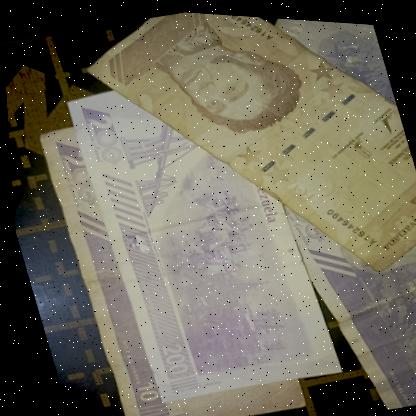five-front-vef: (72, 4, 416, 321)
ten-back-vef: (34, 88, 309, 416), (258, 123, 416, 416), (246, 13, 398, 132)
two_hundred-back-vef: (59, 51, 343, 412)
